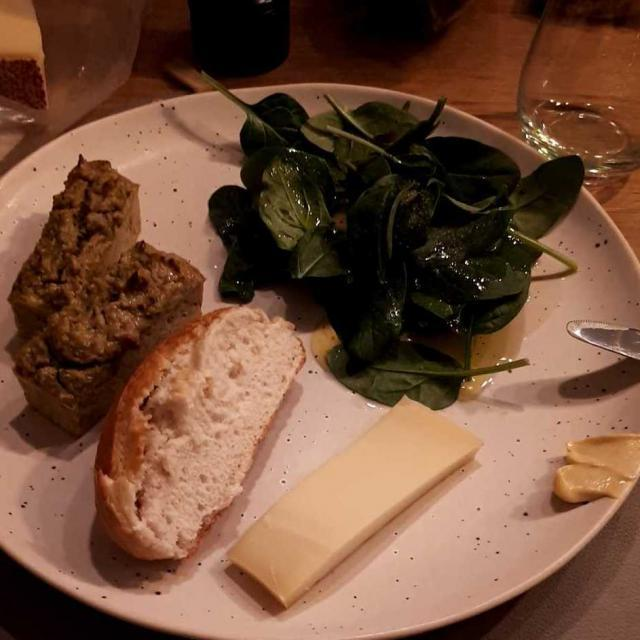bread: (95, 306, 304, 558)
gruyere: (237, 410, 477, 605)
meat: (28, 187, 182, 421)
salad: (230, 102, 577, 387)
spinach: (220, 102, 578, 403)
